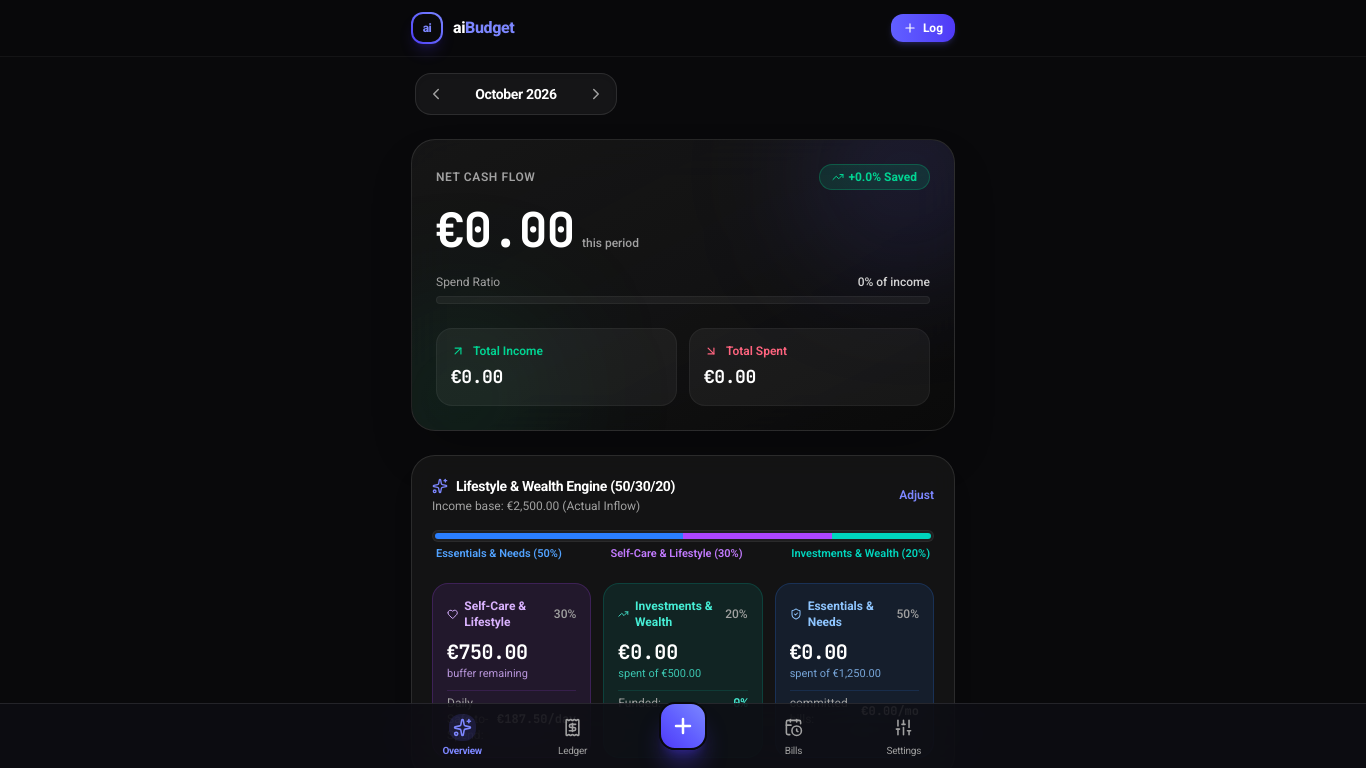
Test: Flow 4: Recurring Bills & Mark as Paid Automation › hides empty 7-day and later-this-month sections when bills only exist in future commitments
Check: the text "Net Cash Flow" is shown, box [436,169,535,185]
Click the button "Bills".
click(793, 736)  # box [738,710,849,762]
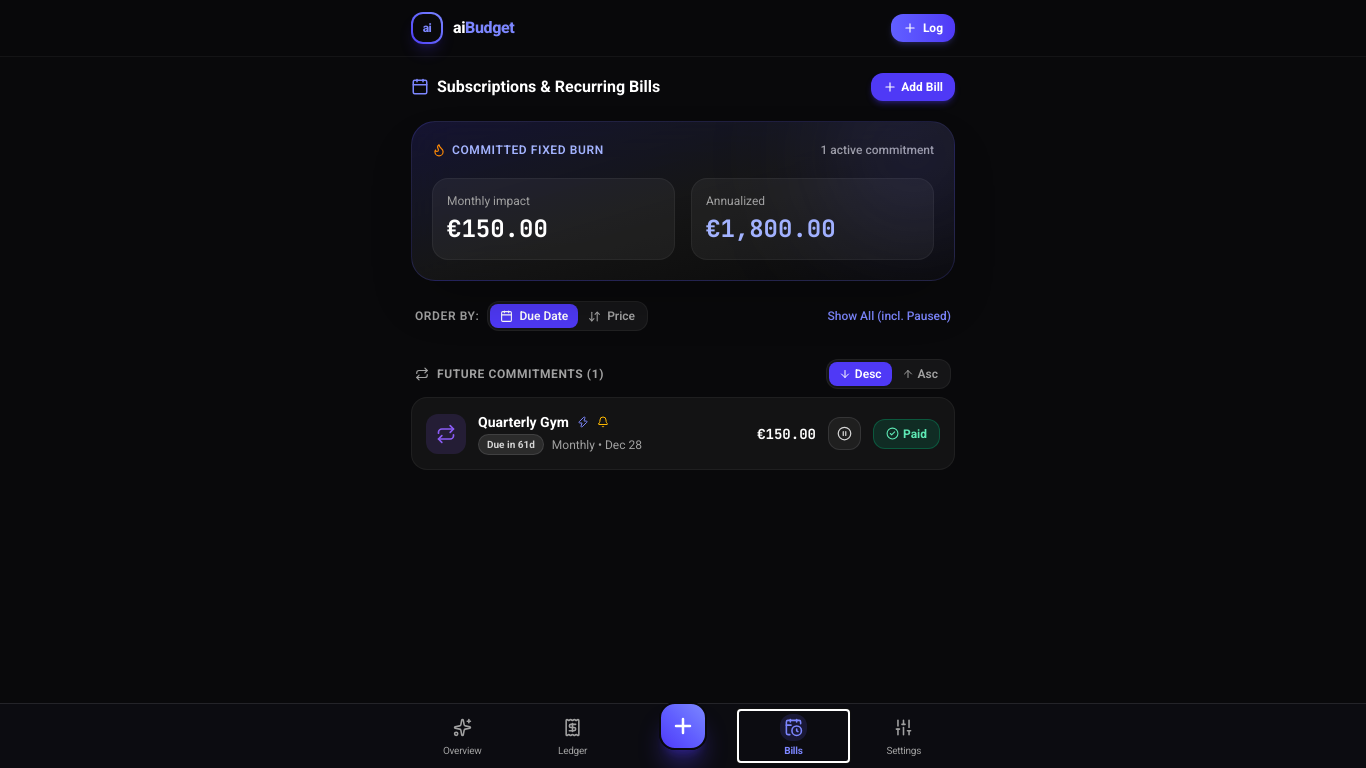
Check: the text "Future Commitments (1)" is shown, box [415,366,604,382]
Check: the text "Quarterly Gym" is shown, box [478,412,569,432]
